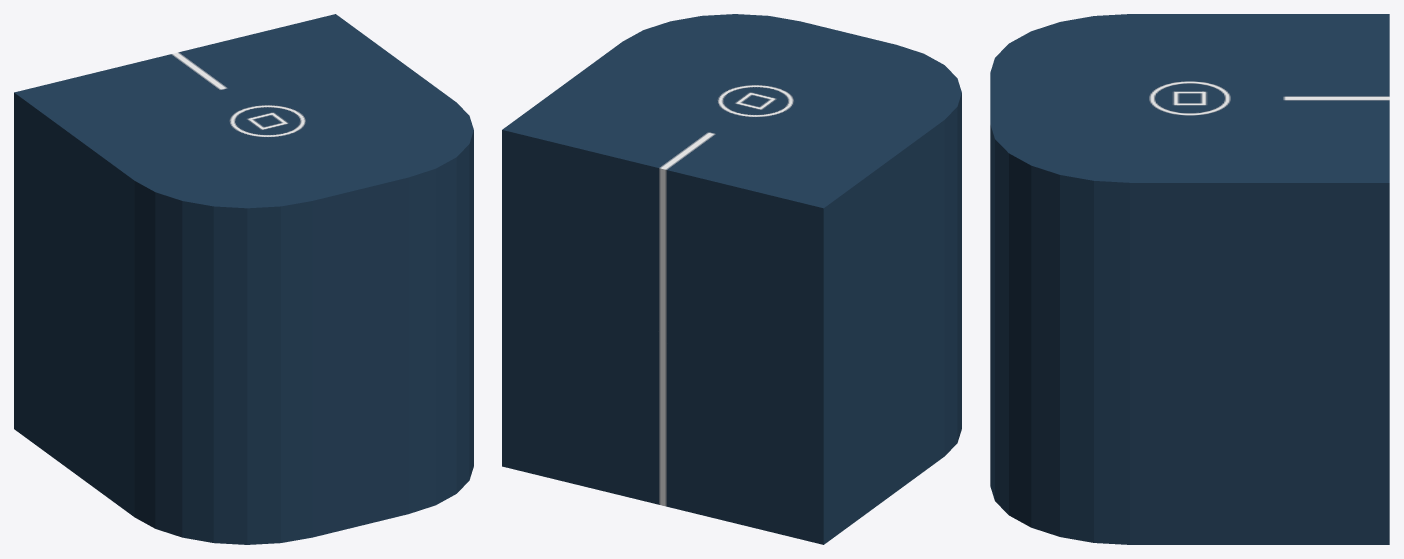
Rendered from TestTileBevel2 (3).fbx.
The picture shows the model from 3 angles, left to right: view 1: azimuth 30°, elevation 25°; view 2: azimuth 150°, elevation 25°; view 3: azimuth 270°, elevation 25°; orthographic projection. The views are drawn at different scales.
Visible parts, largest first — view 1: Cube; view 2: Cube; view 3: Cube.
Boxes of the visible parts, <box> form: Cube: <box>14,14,473,544</box>; Cube: <box>502,14,961,544</box>; Cube: <box>990,14,1389,544</box>.
Bounding box in the file's own units: 200 × 200 × 200.
